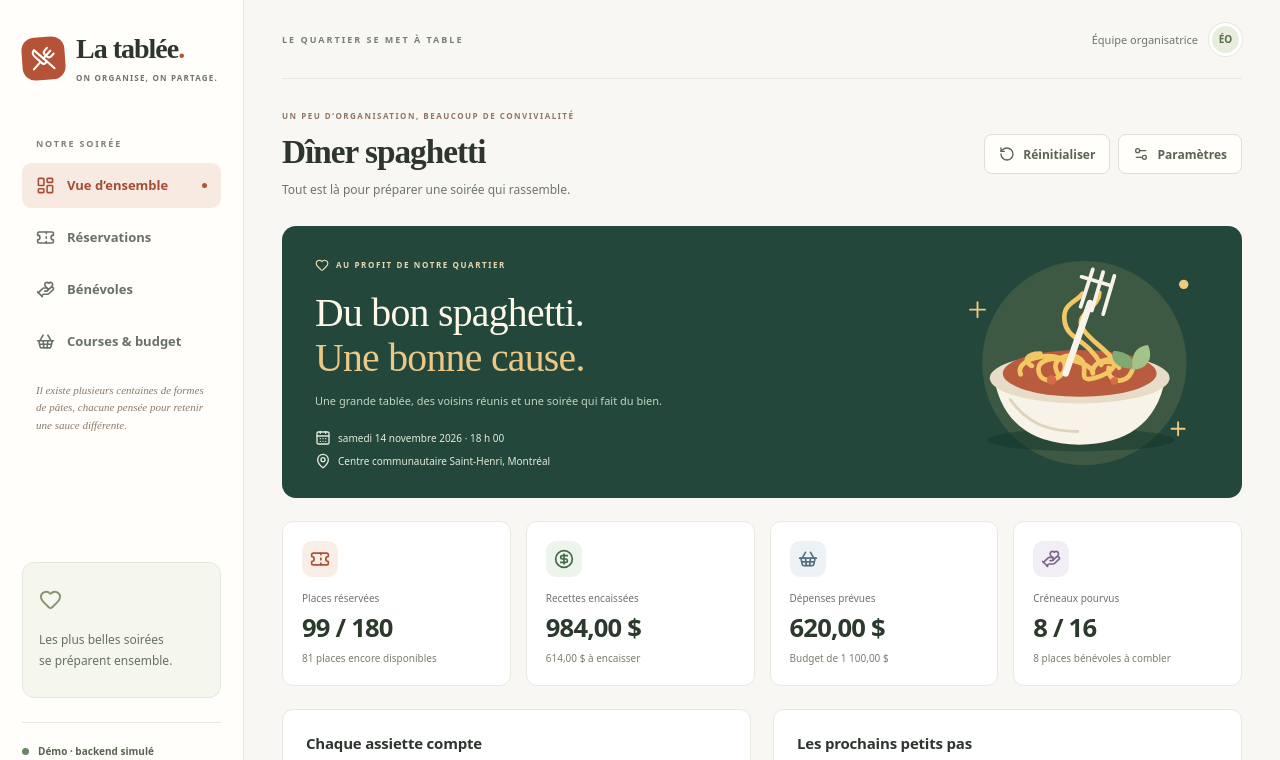
organizer interface › searches names without requiring accents and filters payment status
The image size is (1280, 760).
Expected: the heading "Du bon spaghetti.Une bonne cause." is shown, [315,291,585,380]
Step 1. Click the button "Réservations" → (122, 237), box [22,215,221,260]
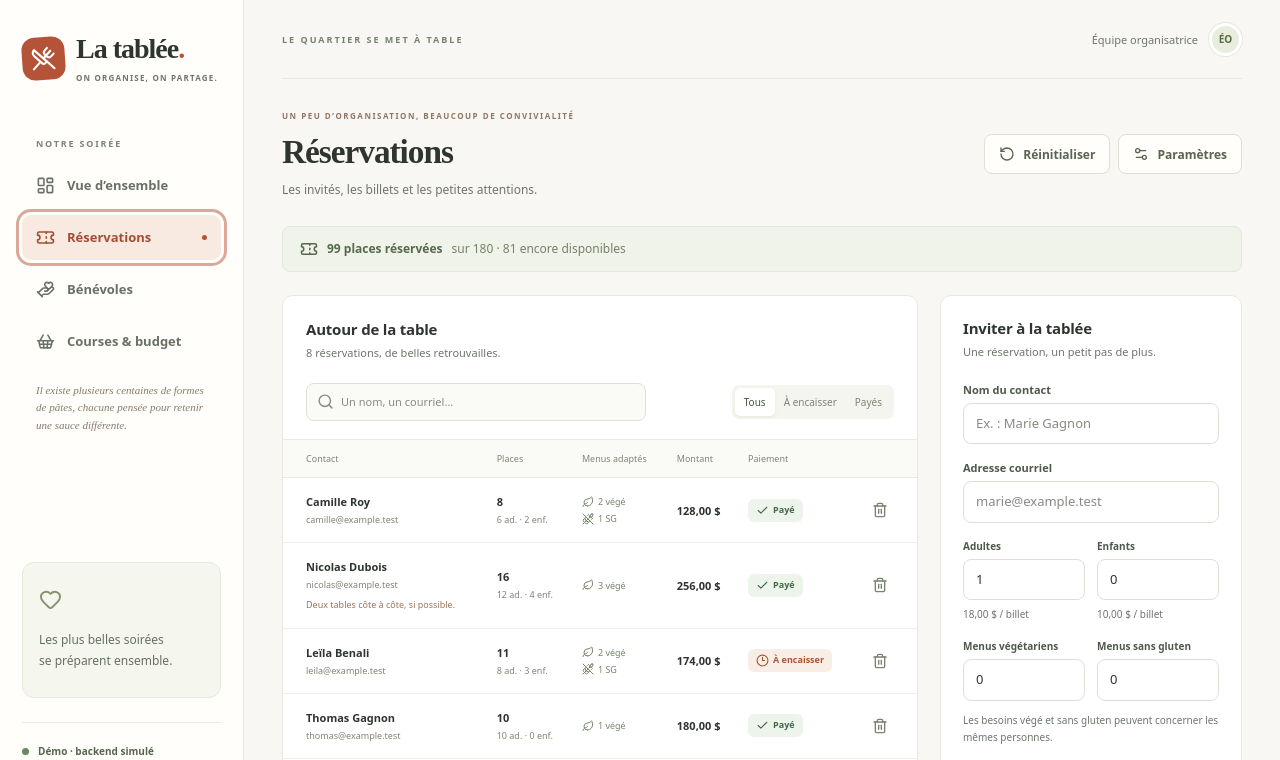
Step 2. Type "emile" into the search field → (476, 402), box [306,382,646,421]
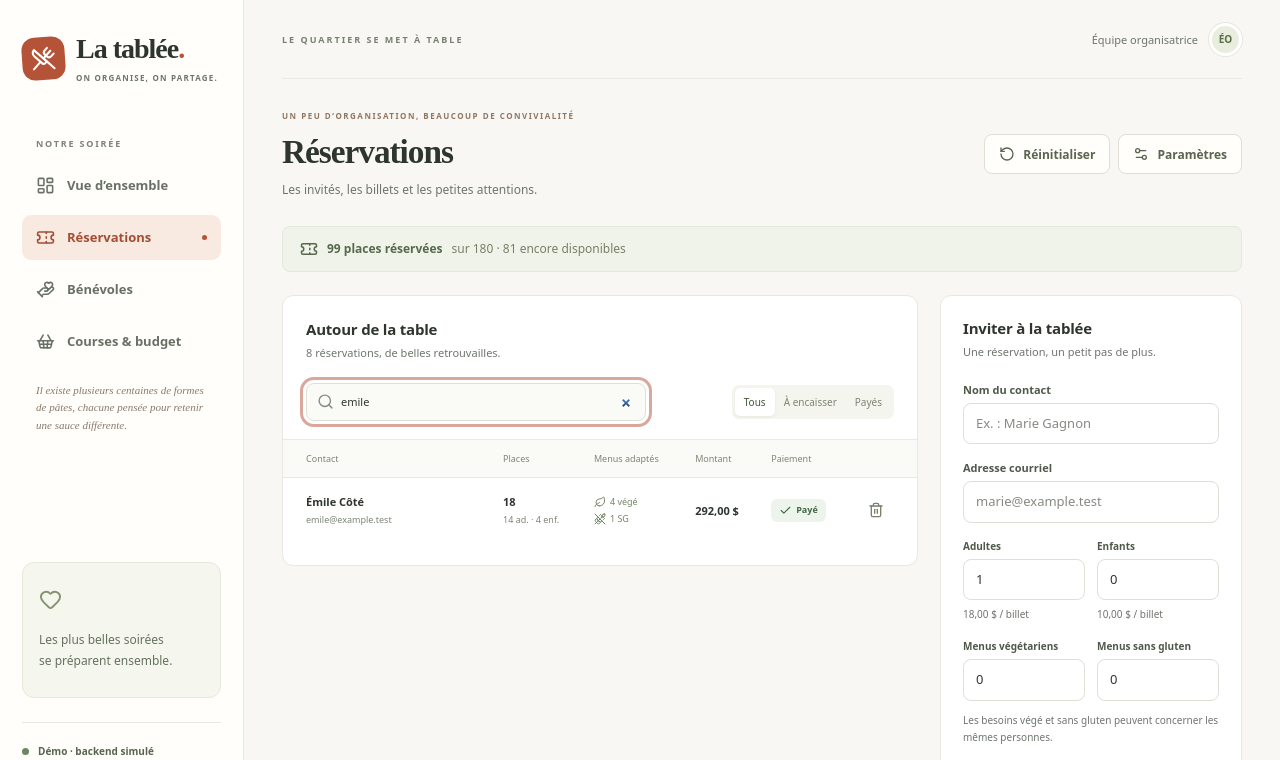
Expected: the text "Émile Côté" is shown, [306,494,364,509]
Expected: the text "Camille Roy" is gone
Step 3. Click the button "À encaisser" → (810, 402), box [775,388,846,416]
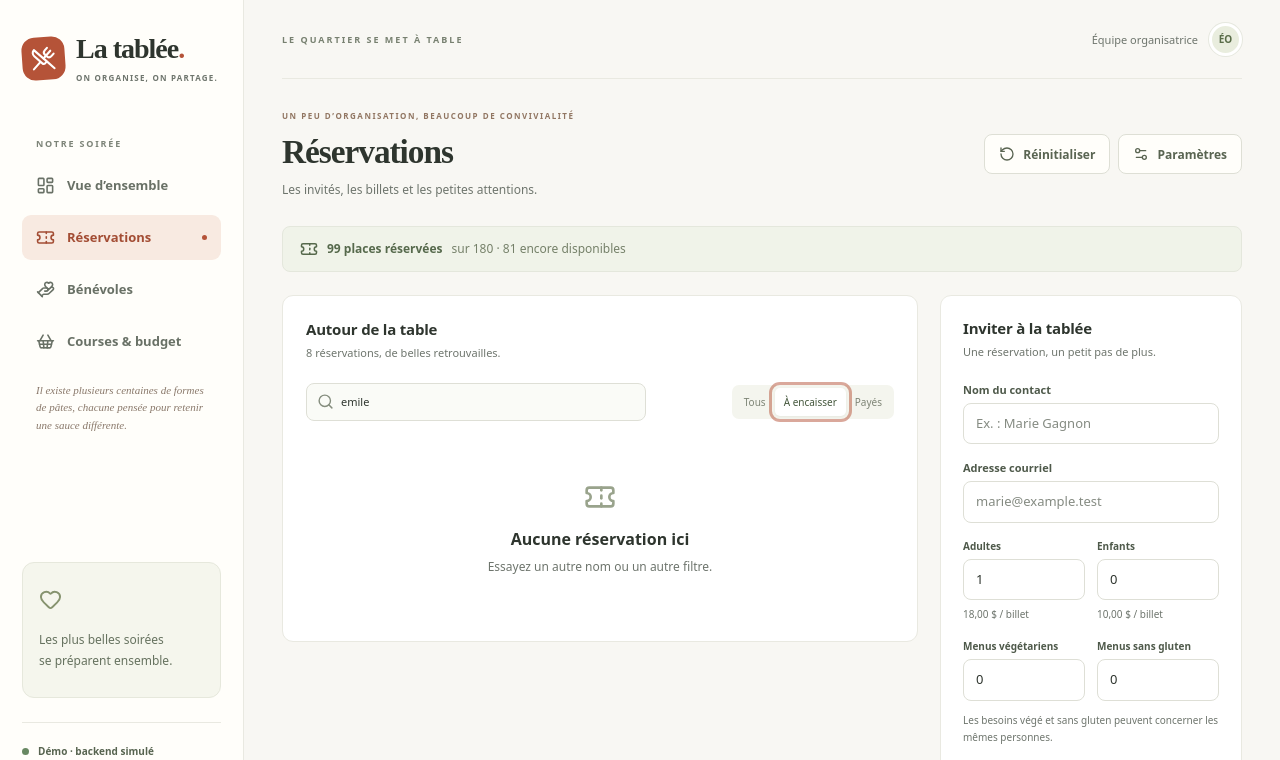
Expected: the heading "Aucune réservation ici" is shown, [511,528,689,550]
